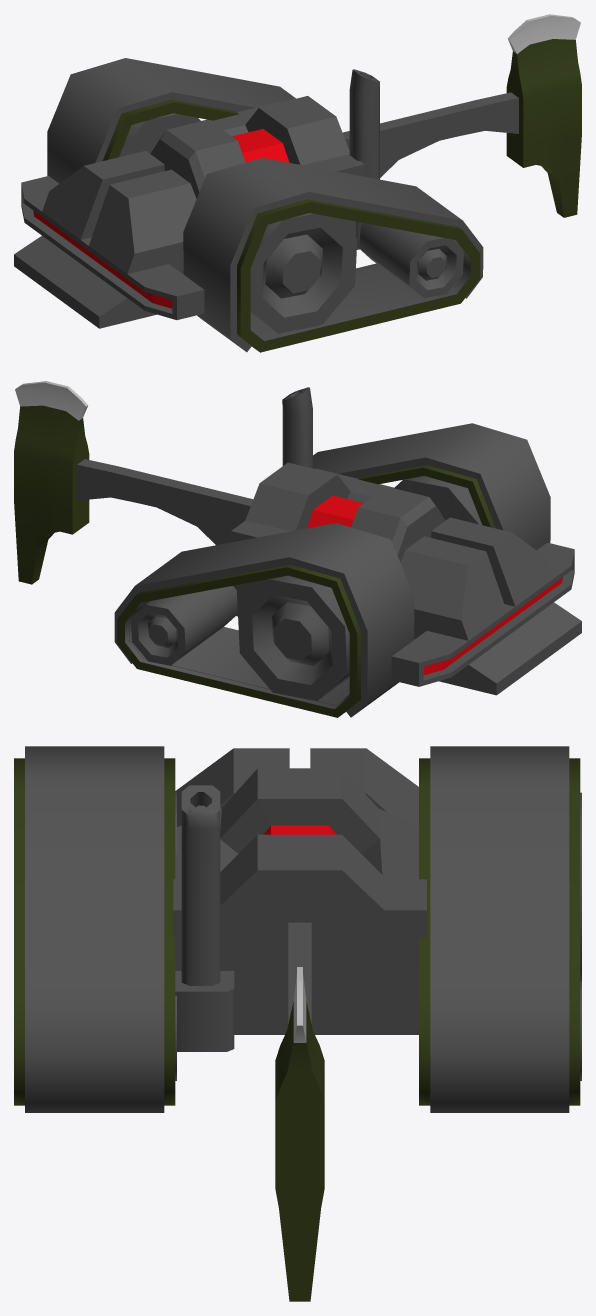
File: ax_man.glb
The picture shows the model from 3 angles, top to bottom: view 1: azimuth 30°, elevation 25°; view 2: azimuth 150°, elevation 25°; view 3: azimuth 270°, elevation 25°; orthographic projection. The views are drawn at different scales.
Parts seen in each view (by area): view 1: Cylinder.001, Cube; view 2: Cylinder.001, Cube; view 3: Cylinder.001, Cube.
Boxes of the visible parts, x1,y1,x2,y2 form: Cylinder.001: (14, 58, 483, 352); Cube: (150, 14, 581, 249); Cylinder.001: (114, 387, 581, 717); Cube: (14, 381, 445, 616); Cylinder.001: (14, 746, 581, 1112); Cube: (173, 768, 426, 1301).
Size of the model in its own units: 7.08 by 2.91 by 4.48.
